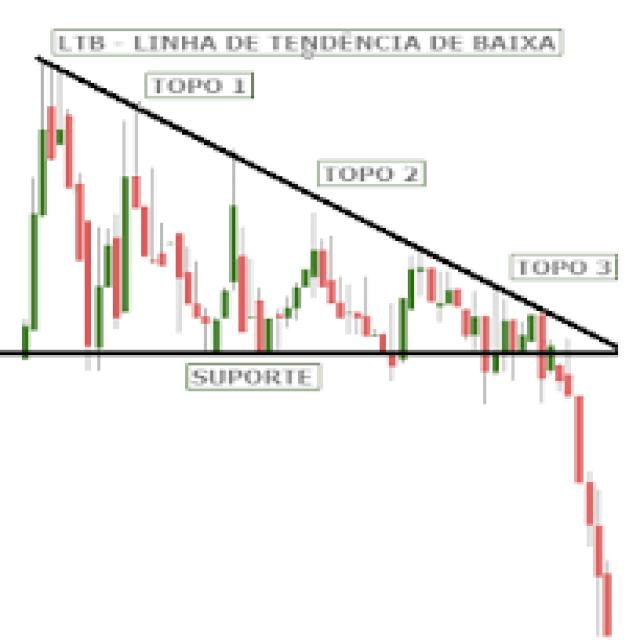bandeira_baixa: (8, 91, 564, 373)
